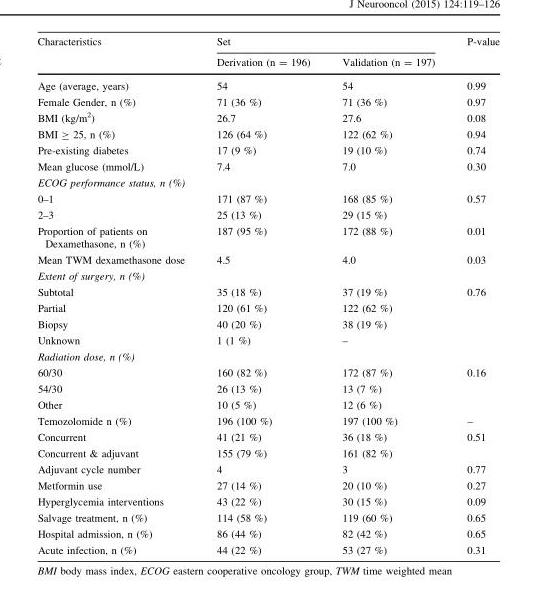table: (36, 36, 499, 555)
table column: (36, 36, 200, 555), (200, 36, 325, 555), (325, 36, 450, 555), (450, 36, 499, 555)
table column header: (36, 36, 499, 74)
table projected row header: (36, 267, 499, 284), (36, 174, 499, 190), (36, 348, 499, 364)
table row: (36, 223, 499, 251), (36, 51, 499, 74), (36, 74, 499, 94), (36, 109, 499, 126), (36, 190, 499, 207), (36, 267, 499, 284), (36, 396, 499, 413), (36, 525, 499, 542), (36, 126, 499, 142), (36, 142, 499, 158), (36, 158, 499, 174), (36, 174, 499, 190), (36, 207, 499, 223), (36, 251, 499, 267), (36, 284, 499, 300), (36, 300, 499, 316), (36, 316, 499, 332), (36, 332, 499, 348), (36, 348, 499, 364), (36, 364, 499, 380), (36, 380, 499, 396), (36, 413, 499, 429), (36, 429, 499, 445), (36, 445, 499, 461), (36, 461, 499, 477), (36, 477, 499, 493), (36, 493, 499, 509), (36, 509, 499, 525), (36, 36, 499, 51), (36, 94, 499, 109), (36, 542, 499, 555)
table spanning cell: (36, 36, 200, 74), (200, 36, 450, 51), (450, 284, 499, 348), (450, 364, 499, 413), (450, 36, 499, 74), (450, 190, 499, 223), (450, 429, 499, 461)
